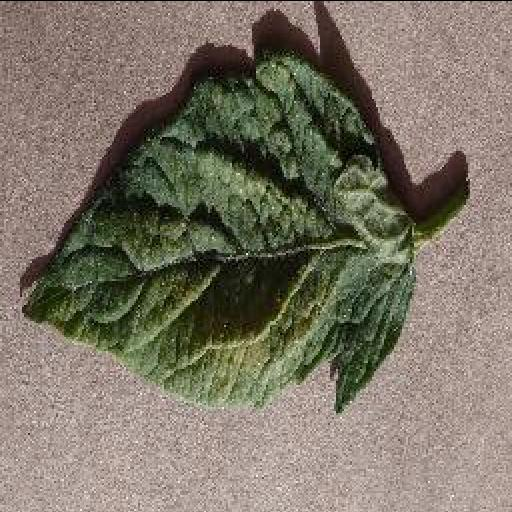disease_tomato: (23, 56, 413, 414)
